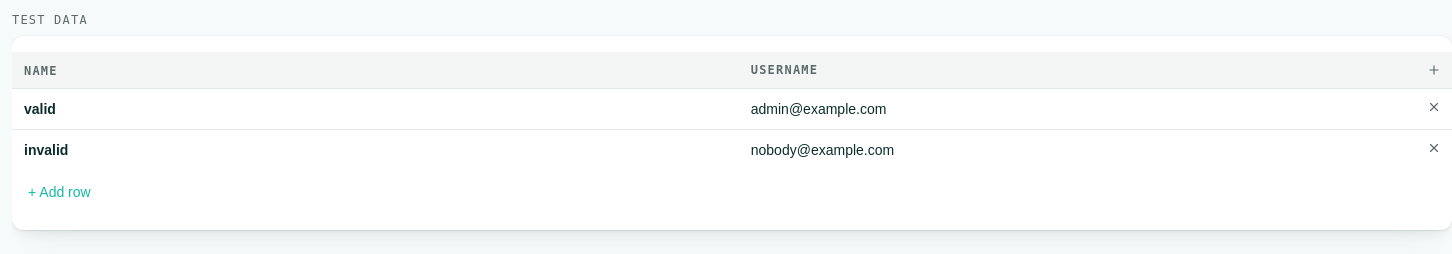
Test: CaseParametersEditor › accepts every keystroke when renaming a column in one continuous type — regression: the header must not remount mid-edit
The image size is (1452, 254).
Type "xyz" into the field named "Column 1" at (827, 70), box [751,62,903,78]
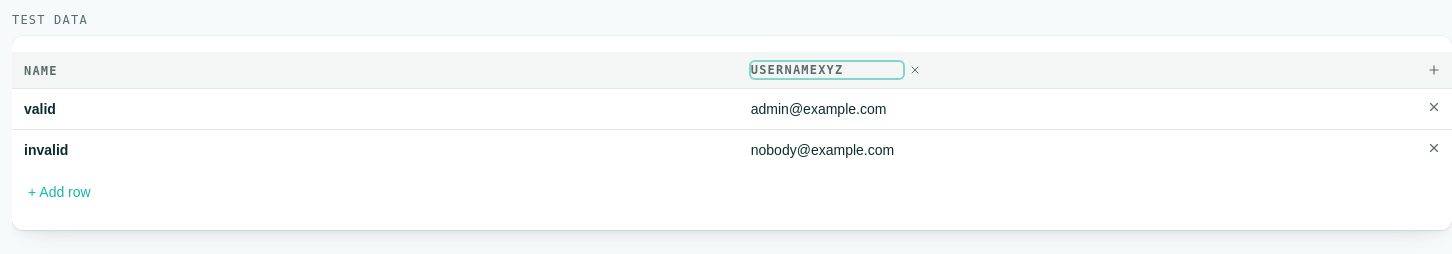
Check: the field named "Column 1" holds "usernamexyz", box [751,62,903,78]
